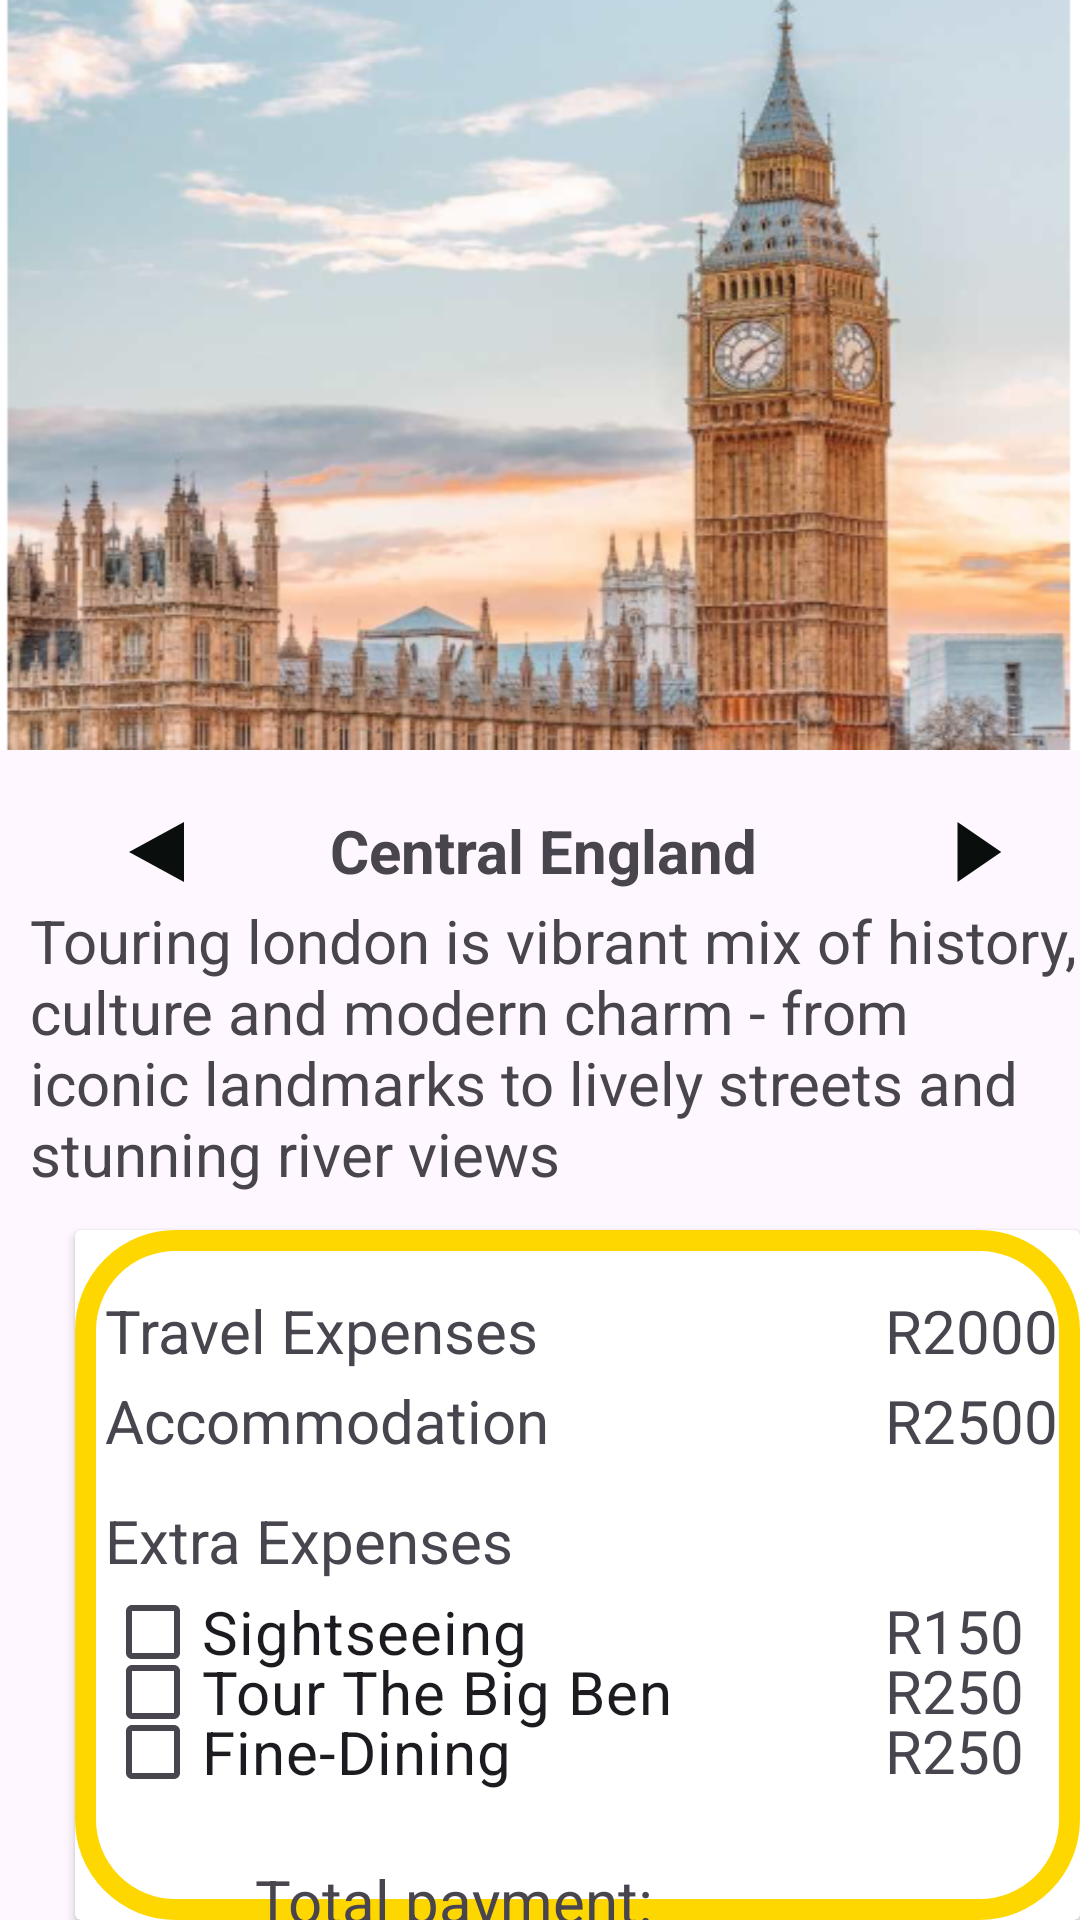

Icon bounding boxes for this 1080px×1920px phone screenshot, format (x1, y1, x2, y2):
arrow left: (129, 822, 184, 924)
arrow right: (924, 822, 1001, 924)
